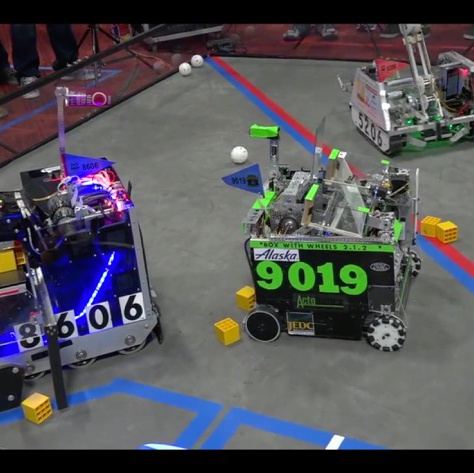robot: (0, 83, 168, 391), (222, 111, 426, 360), (340, 23, 474, 155)
